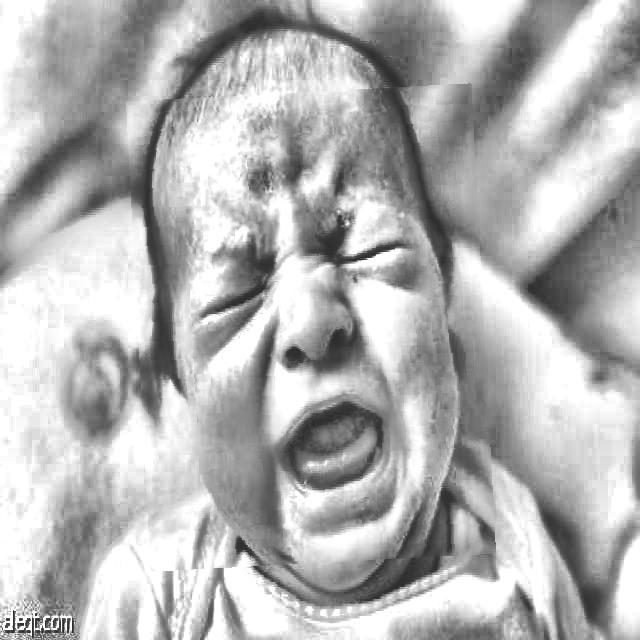sad: (132, 88, 490, 567)
